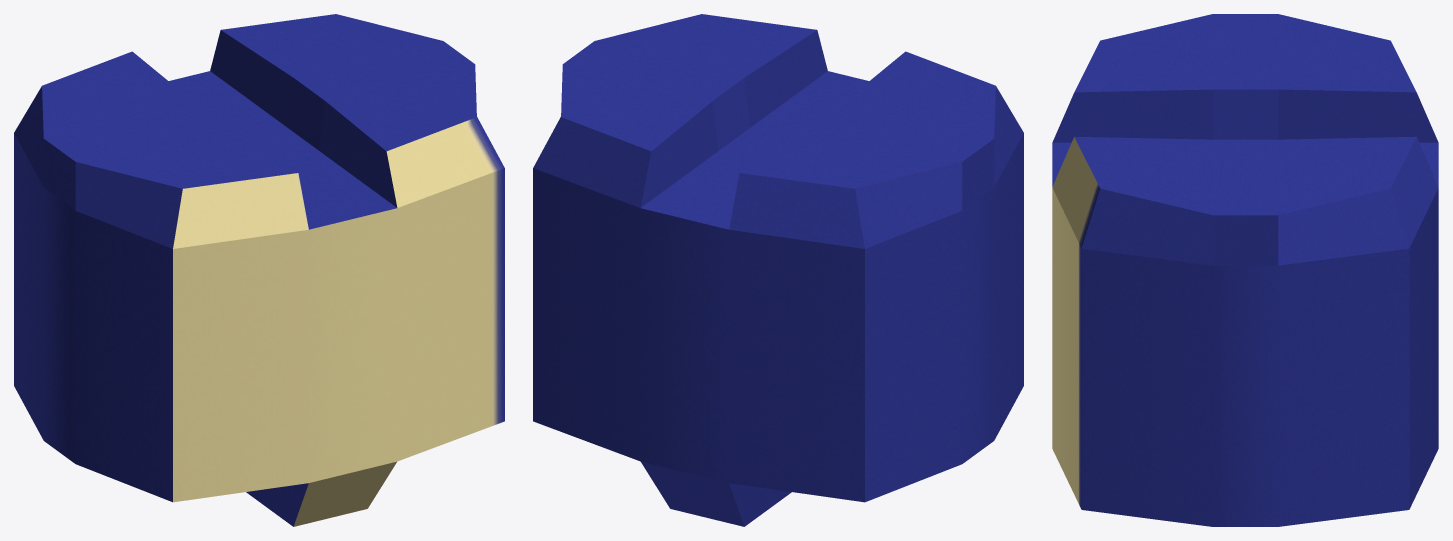
The model's file is p_body.obj.
3 views of the same model, side by side, from view 1: azimuth 30°, elevation 25°; view 2: azimuth 150°, elevation 25°; view 3: azimuth 270°, elevation 25° (orthographic). The views are drawn at different scales.
Parts seen in each view (by area): view 1: B_C; view 2: B_C; view 3: B_C.
Part boxes in pixels (<box>): B_C: <box>14,14,504,526</box>; B_C: <box>533,14,1023,526</box>; B_C: <box>1052,14,1438,526</box>.
Size of the model in its own units: 4.42 by 3.85 by 3.58.
